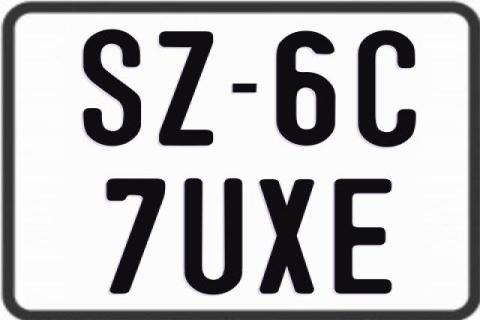0: (104, 179, 165, 295), (273, 29, 333, 145)
C: (356, 29, 420, 149)
E: (334, 178, 398, 296)
S: (83, 29, 147, 150)
U: (181, 177, 243, 297)
X: (259, 177, 315, 291)
Z: (159, 29, 217, 145)
